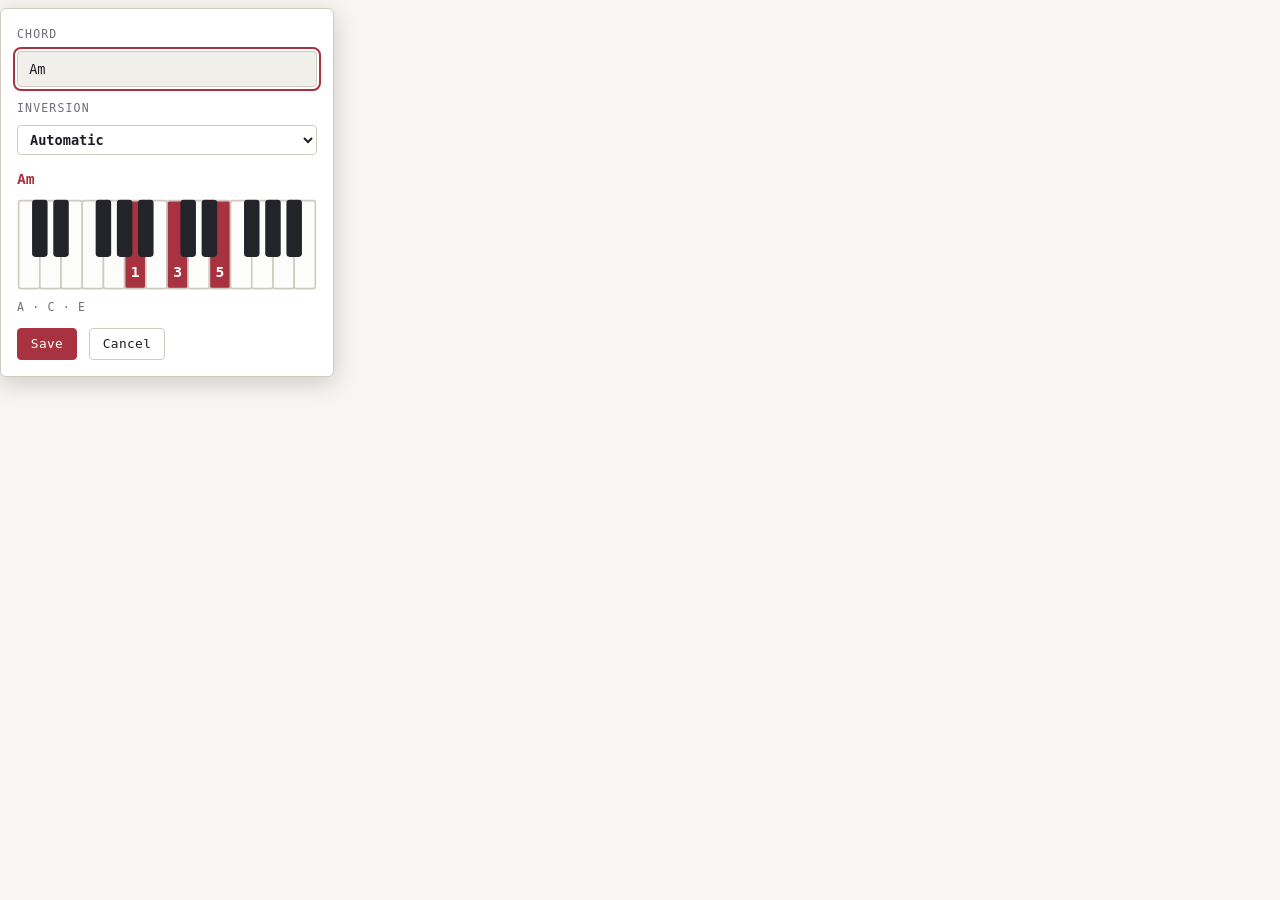
Test: ChordEditor › clears the error once the symbol becomes valid again
Replace the text in the field labelled "Chord" with "H7" at (167, 69), box [17,51,317,87]
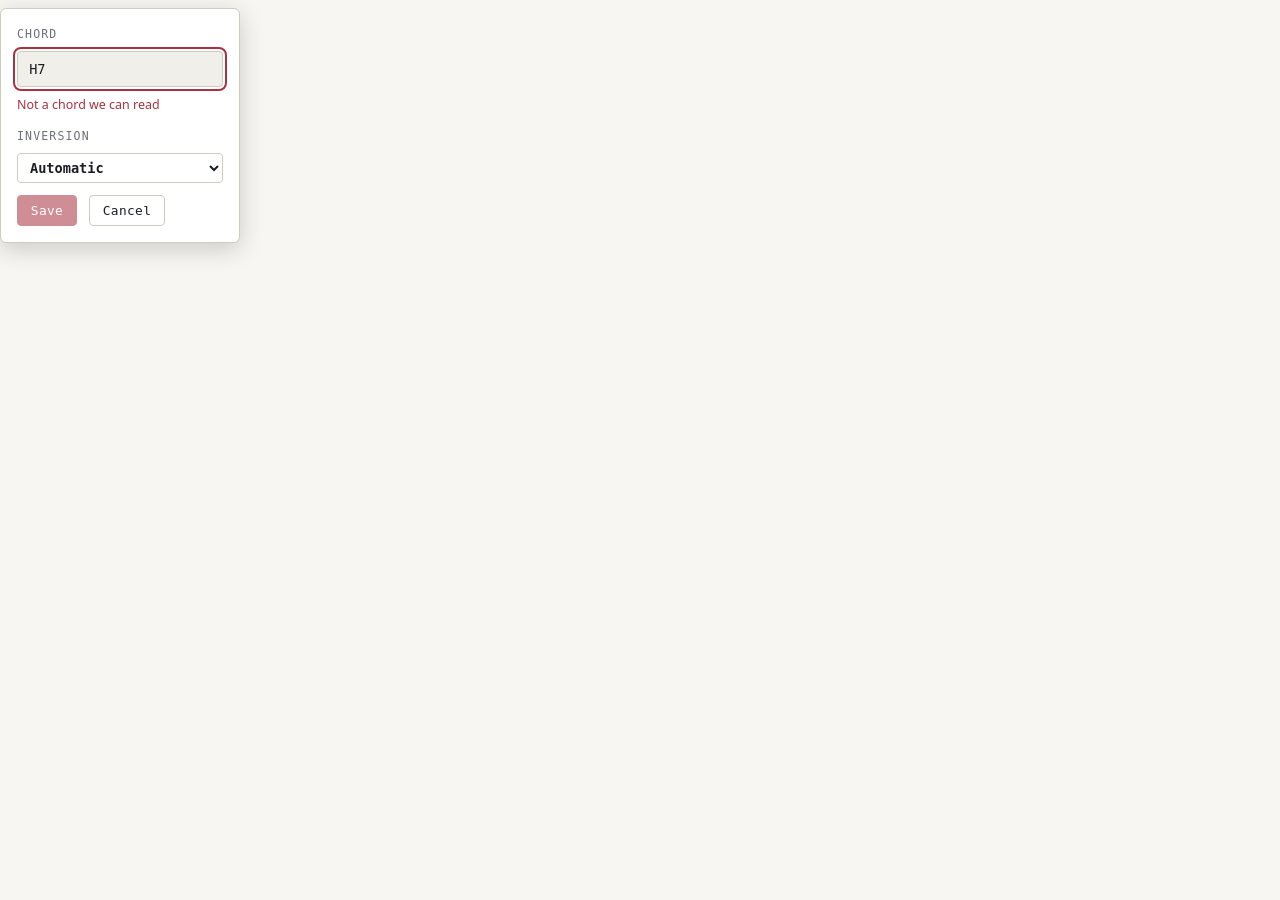
Check: the text "Not a chord we can read" is shown, box [17,96,160,113]
Replace the text in the field labelled "Chord" with "Am7" at (120, 69), box [17,51,223,87]
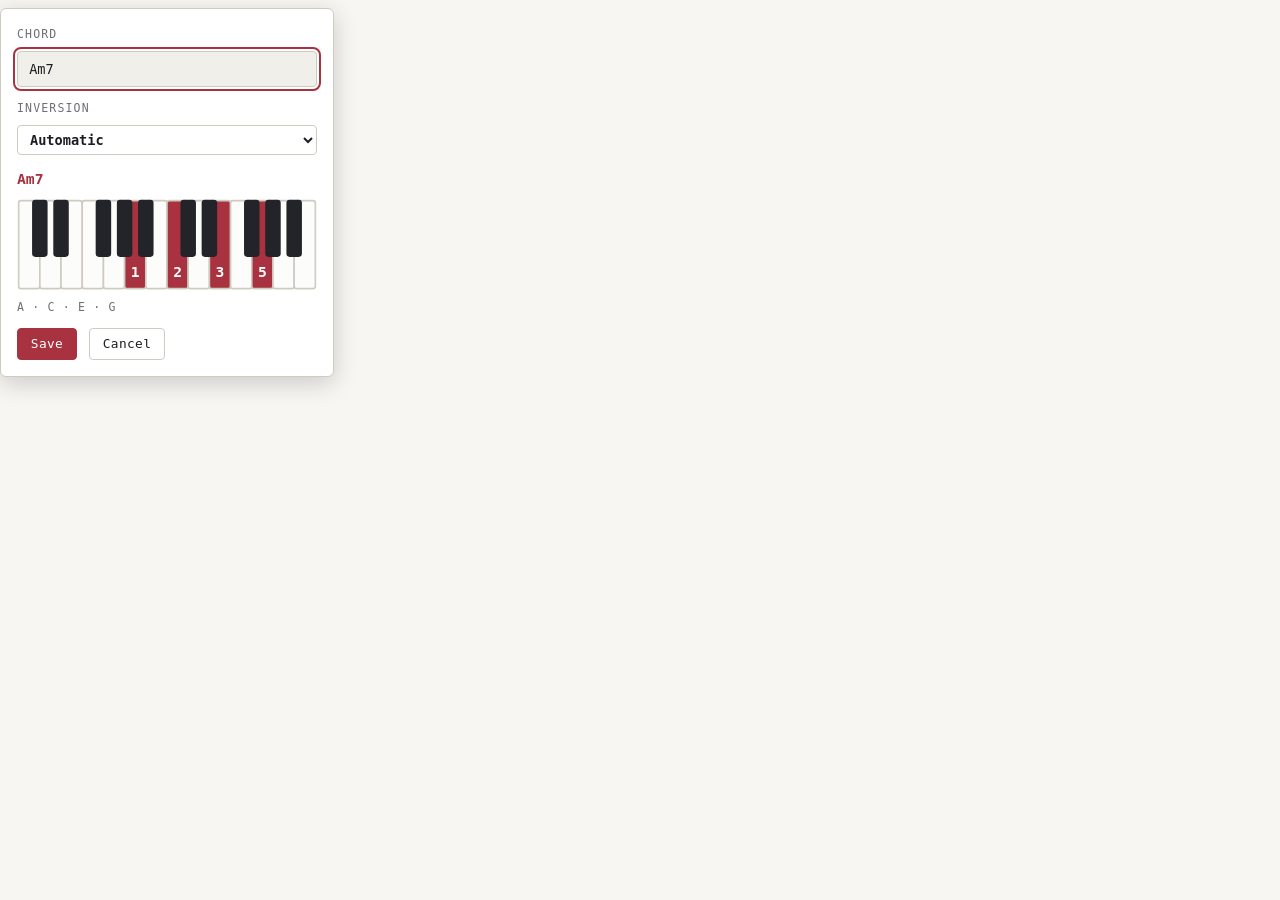
Check: the text "Not a chord" is gone
